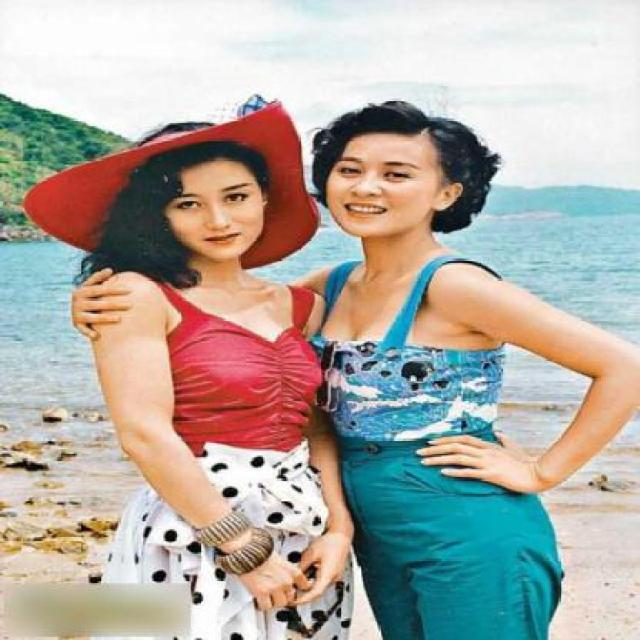Person: (0, 94, 366, 638), (308, 64, 639, 640)
